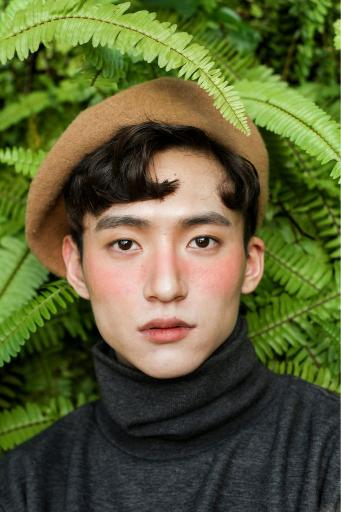left_eye: (185, 233, 224, 252)
left_lip_corner: (190, 321, 202, 335)
right_eye: (105, 237, 144, 255)
right_lip_corner: (136, 325, 145, 338)
